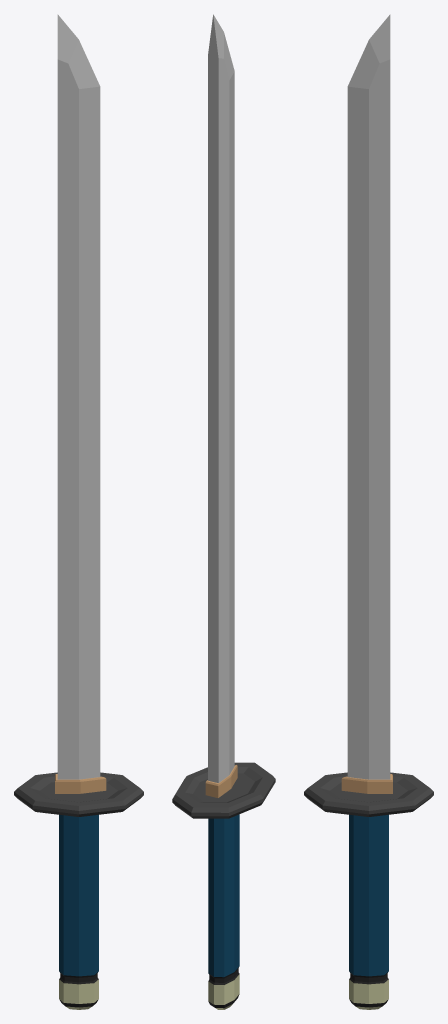
File: Sword.fbx
3 renders of one model, left to right at view 1: azimuth 90°, elevation 25°; view 2: azimuth 150°, elevation 25°; view 3: azimuth 270°, elevation 25°, orthographic.
Parts seen in each view (by area): view 1: Ninja Sword; view 2: Ninja Sword; view 3: Ninja Sword.
Boxes of the visible parts, x1,y1,x2,y2 form: Ninja Sword: (14, 14, 143, 1009); Ninja Sword: (172, 14, 275, 1009); Ninja Sword: (304, 14, 433, 1009).
Bounding box in the file's own units: 208 × 2511 × 297.
